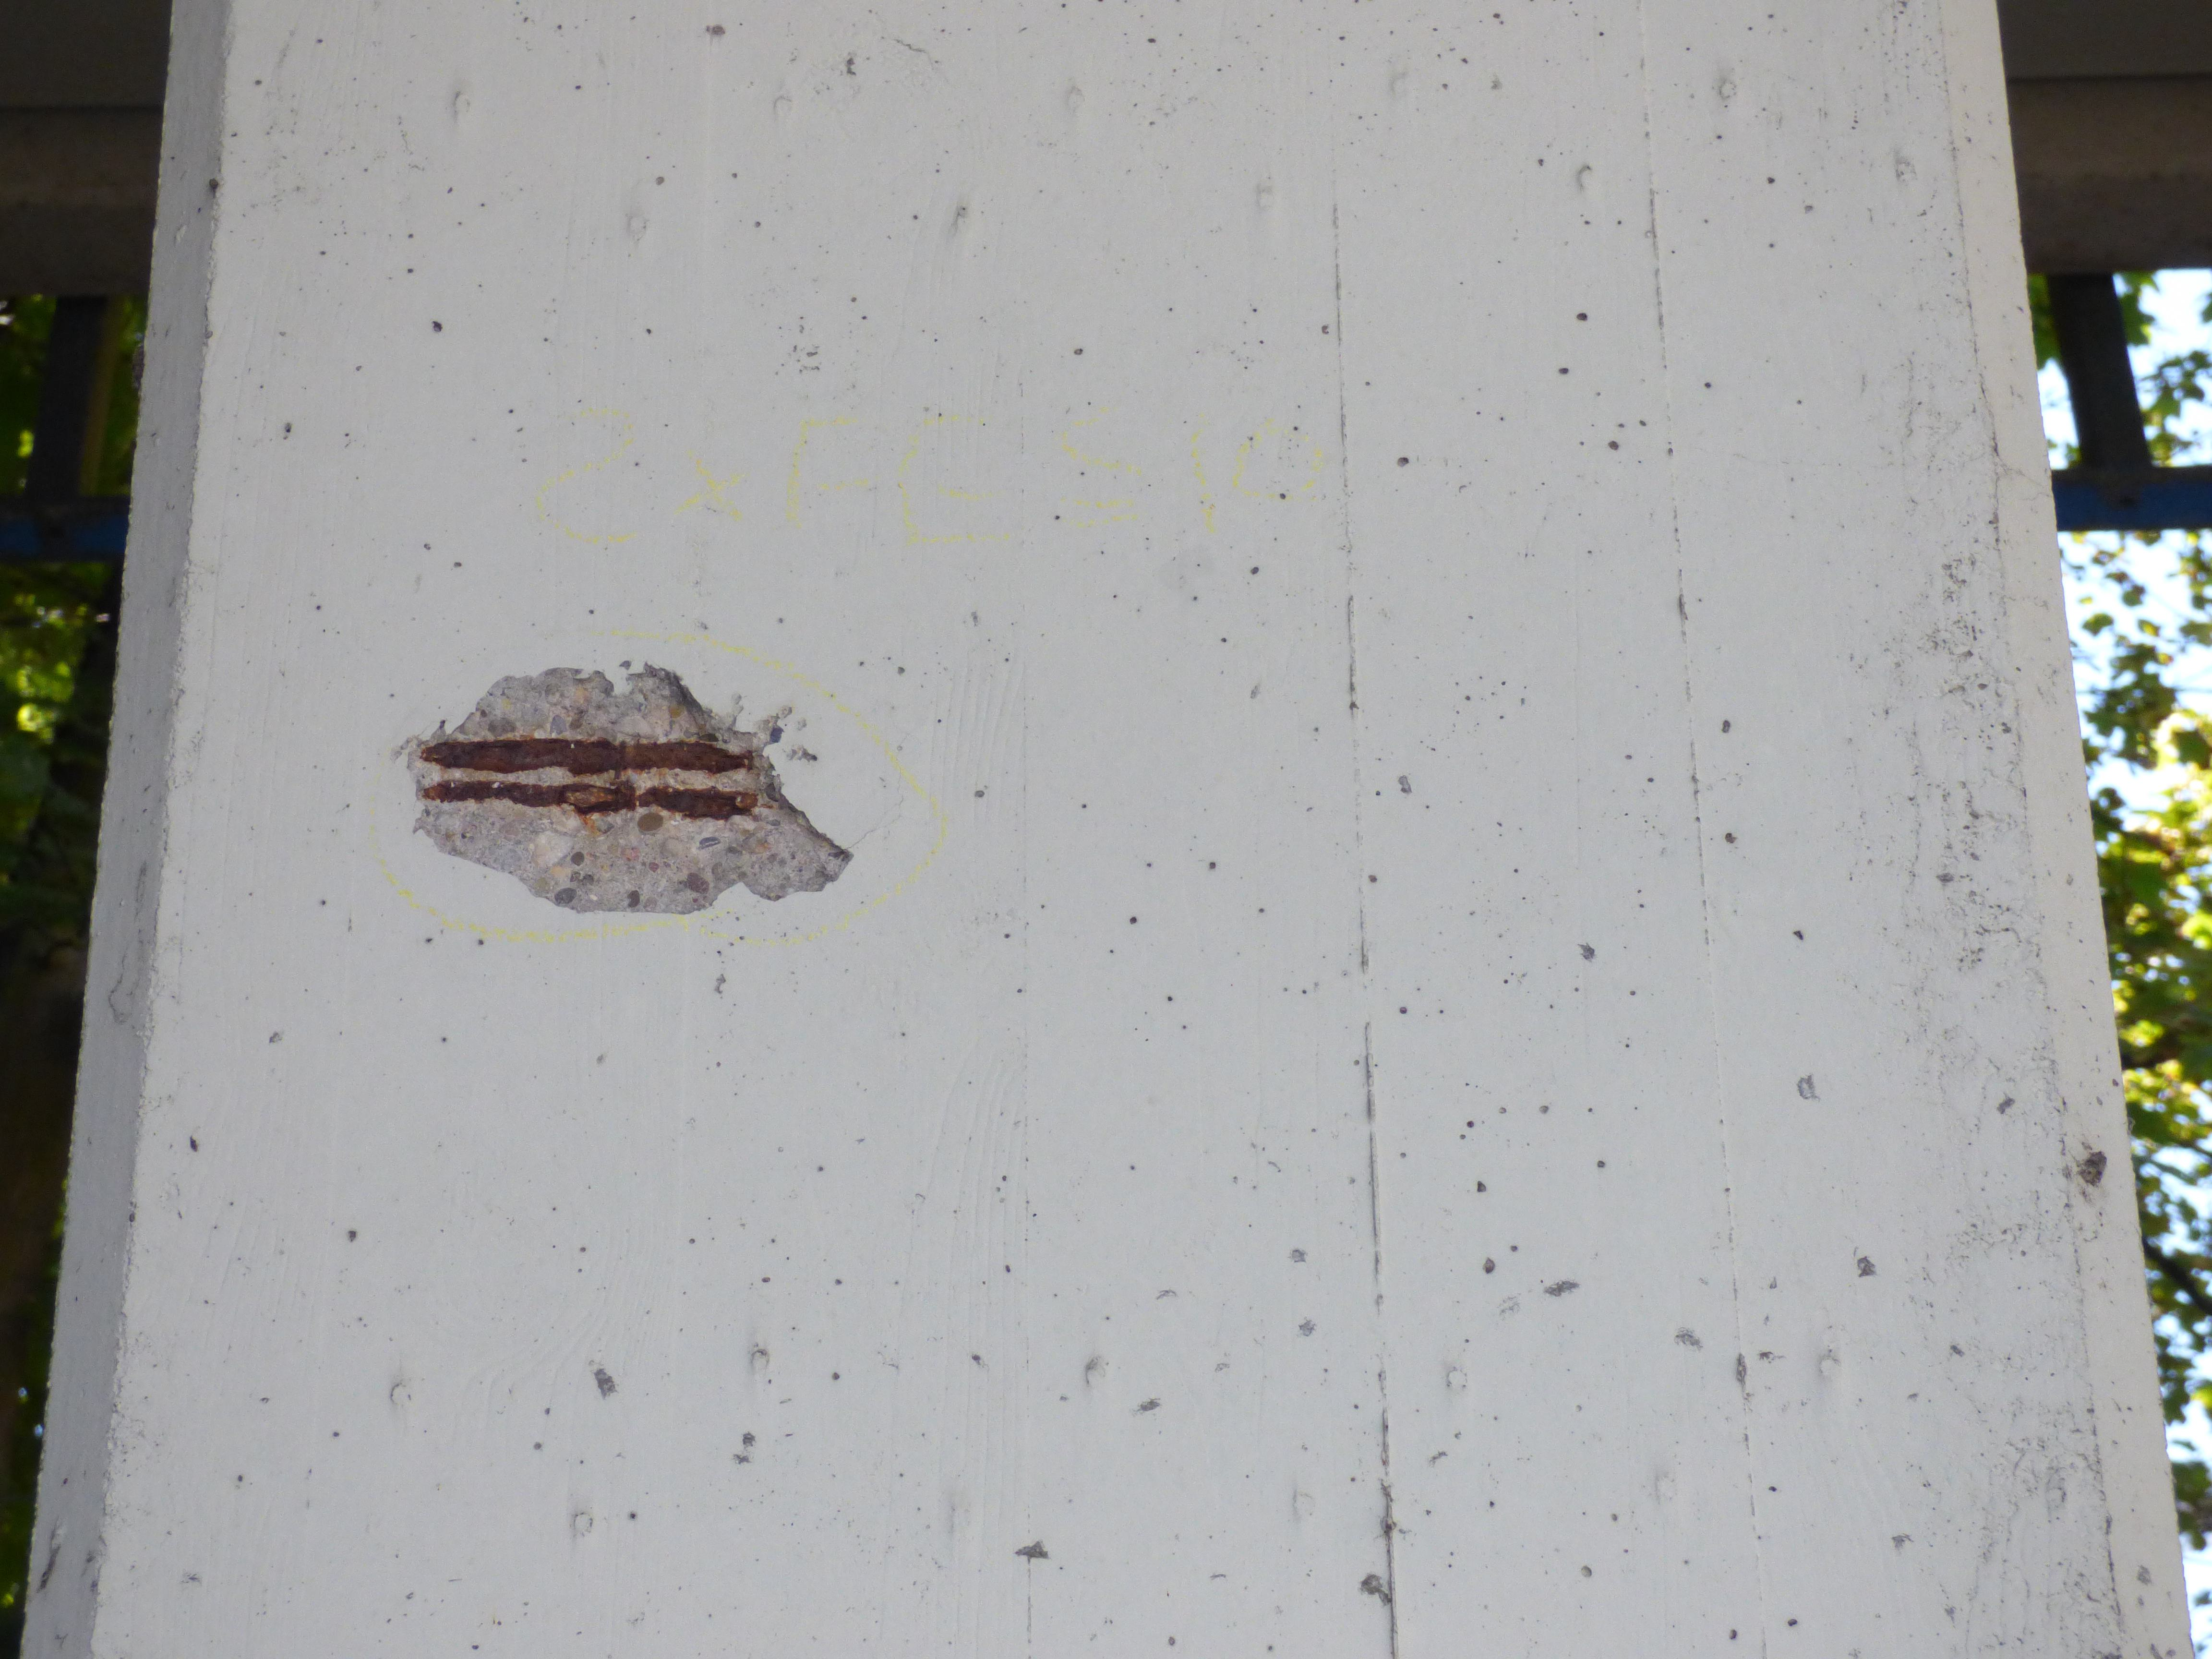Exposed reinforcement: (420, 737, 754, 779), (423, 779, 759, 819)
Spalling: (394, 659, 853, 915)
